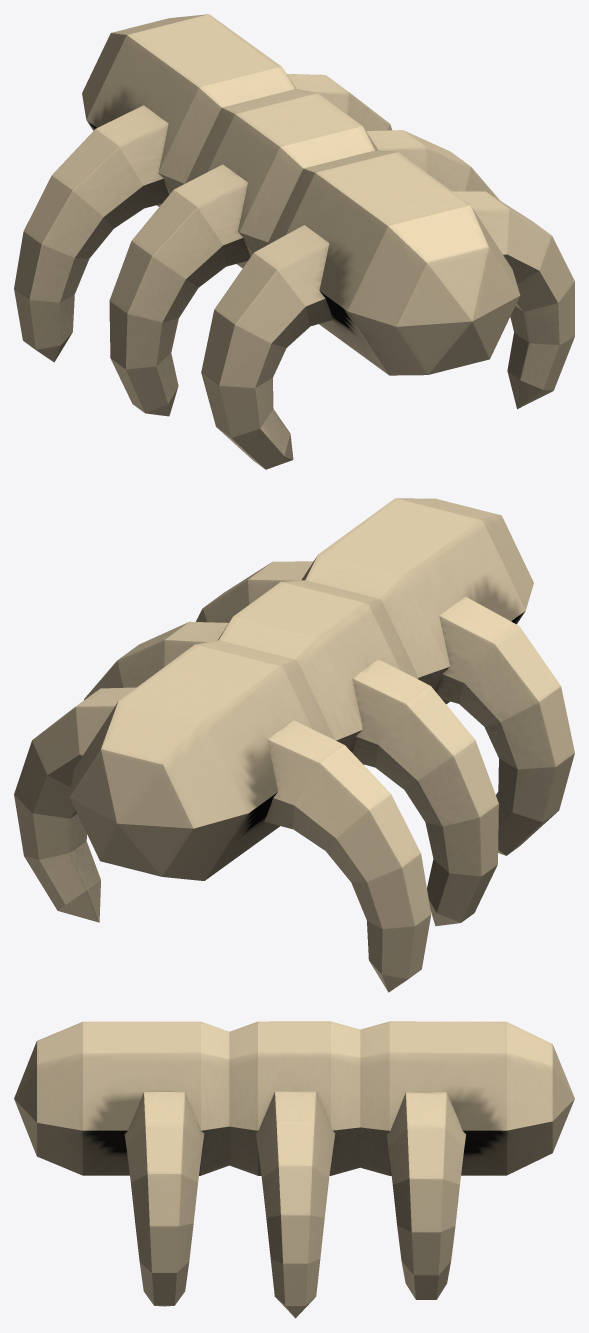
The model's file is SerpentSquelette_Corps.FBX.
3 renders of one model, top to bottom at view 1: azimuth 30°, elevation 25°; view 2: azimuth 150°, elevation 25°; view 3: azimuth 270°, elevation 25°, orthographic. The views are drawn at different scales.
Visible parts, largest first — view 1: SerpentSquelette_Corps; view 2: SerpentSquelette_Corps; view 3: SerpentSquelette_Corps.
Part boxes in pixels (x1,y1,x2,y2): SerpentSquelette_Corps: (14, 14, 574, 469); SerpentSquelette_Corps: (14, 498, 574, 992); SerpentSquelette_Corps: (14, 1021, 574, 1318).
Size of the model in its own units: 0.7391 by 0.4628 by 1.09.
